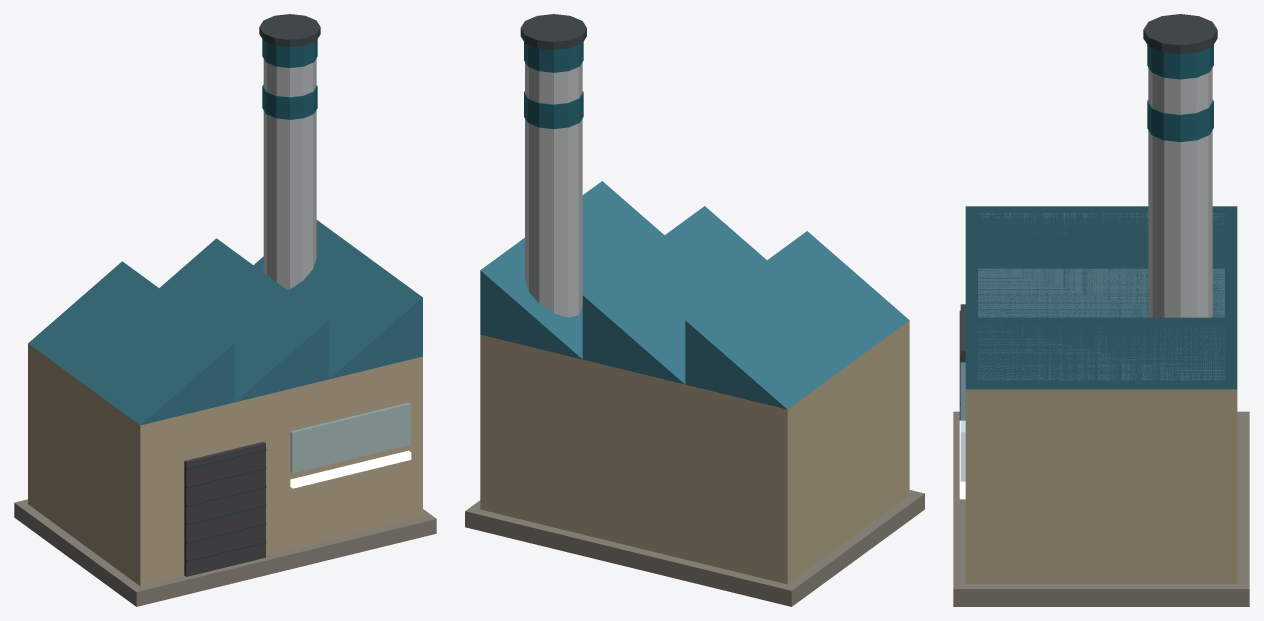
Rendered from w-factory-stone.glb.
The picture shows the model from 3 angles, left to right: view 1: azimuth 30°, elevation 25°; view 2: azimuth 150°, elevation 25°; view 3: azimuth 270°, elevation 25°; orthographic projection. The views are drawn at different scales.
Parts seen in each view (by area): view 1: w-factory-stone; view 2: w-factory-stone; view 3: w-factory-stone.
Part boxes in pixels (left/top/right/bottom): w-factory-stone: left=14, top=14, right=436, bottom=606; w-factory-stone: left=465, top=14, right=924, bottom=606; w-factory-stone: left=953, top=14, right=1249, bottom=606.
Bounding box in the file's own units: 1.7 × 2.44 × 1.2.
